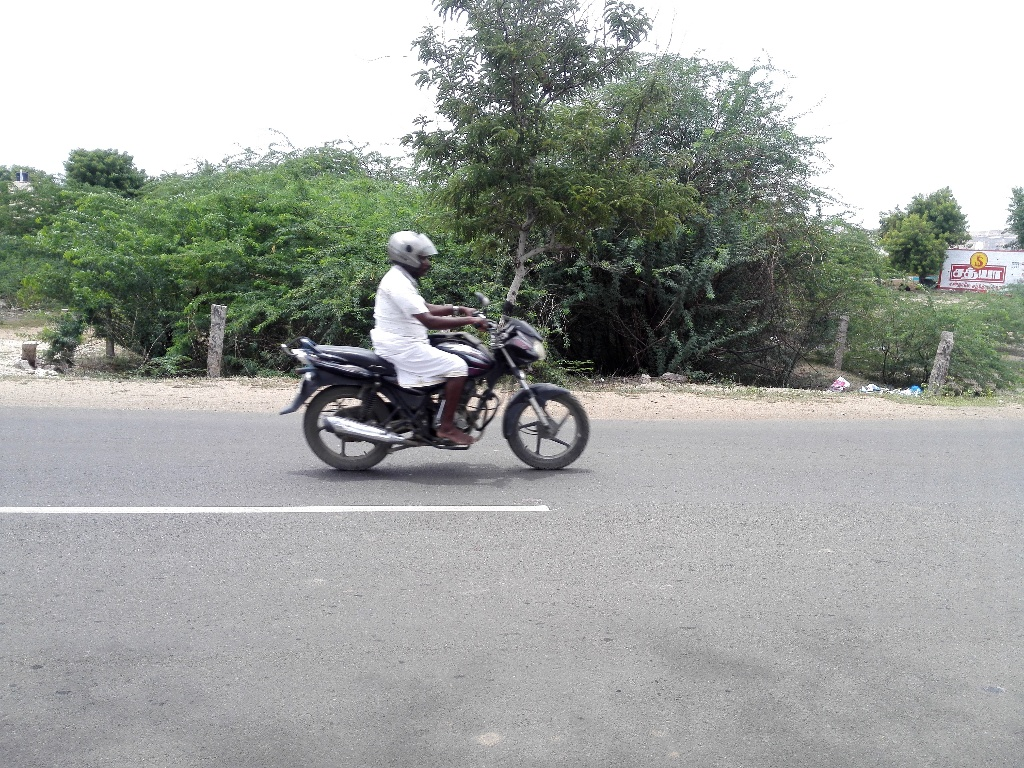biker: (267, 191, 607, 502)
helmet: (380, 218, 447, 283)
